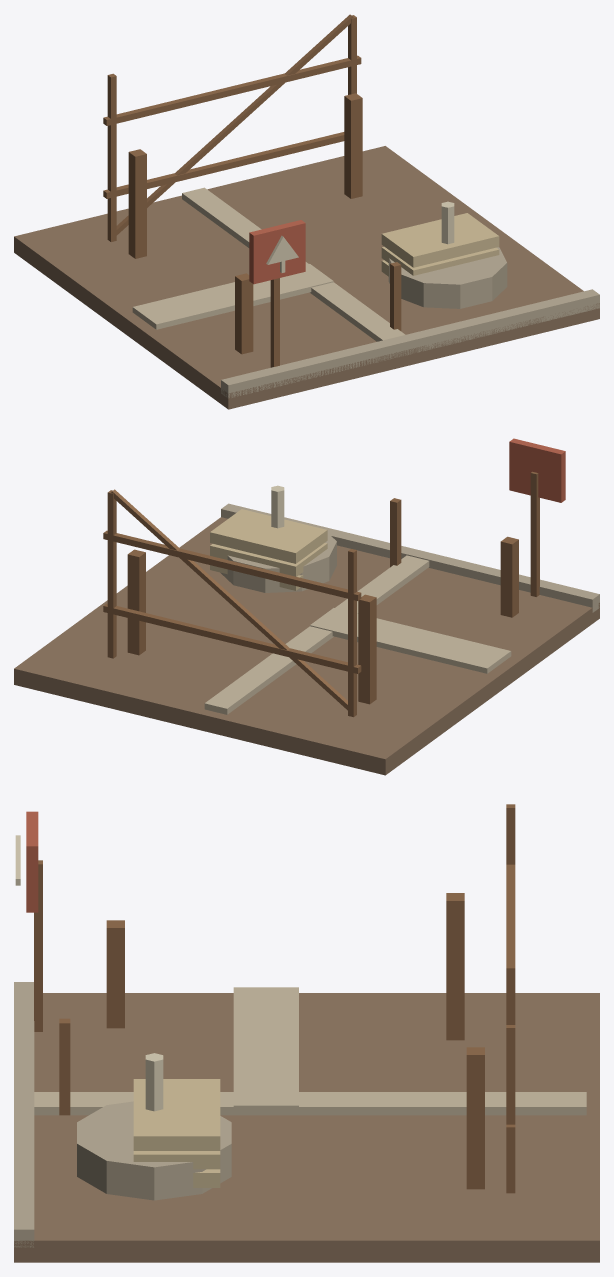
File: park-half-built.glb
The picture shows the model from 3 angles, top to bottom: view 1: azimuth 30°, elevation 25°; view 2: azimuth 150°, elevation 25°; view 3: azimuth 270°, elevation 25°; orthographic projection. The views are drawn at different scales.
Parts seen in each view (by area): view 1: park; view 2: park; view 3: park.
Boxes of the visible parts, <box> form: park: <box>14,14,599,409</box>; park: <box>14,438,599,775</box>; park: <box>14,804,599,1262</box>.
Bounding box in the file's own units: 2.88 × 1.38 × 2.88.
